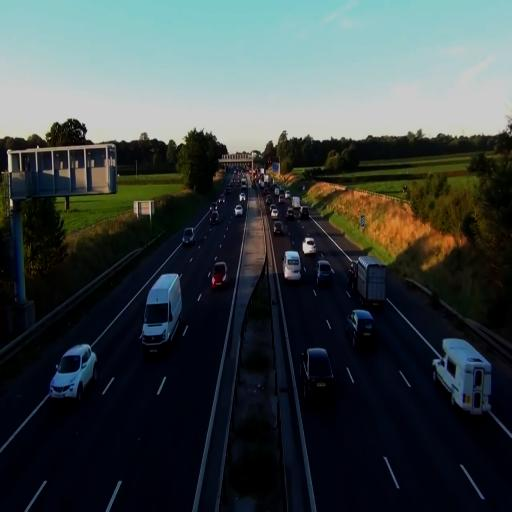vehicle: (431, 338, 493, 419), (140, 272, 183, 358), (140, 272, 183, 357), (49, 343, 98, 404), (300, 346, 336, 404), (354, 253, 386, 309), (355, 254, 386, 310), (346, 308, 378, 348), (282, 250, 302, 283), (210, 260, 228, 290), (315, 259, 333, 288), (346, 258, 359, 294), (182, 228, 194, 246), (233, 203, 245, 219), (273, 221, 284, 235), (211, 209, 218, 225)
